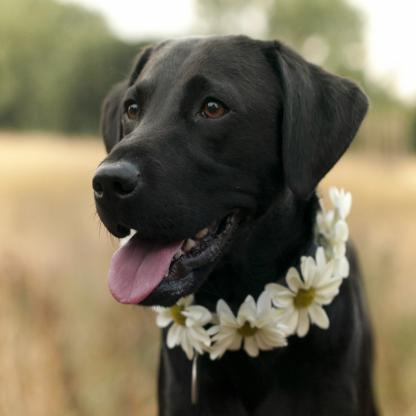dog: (76, 34, 380, 416)
